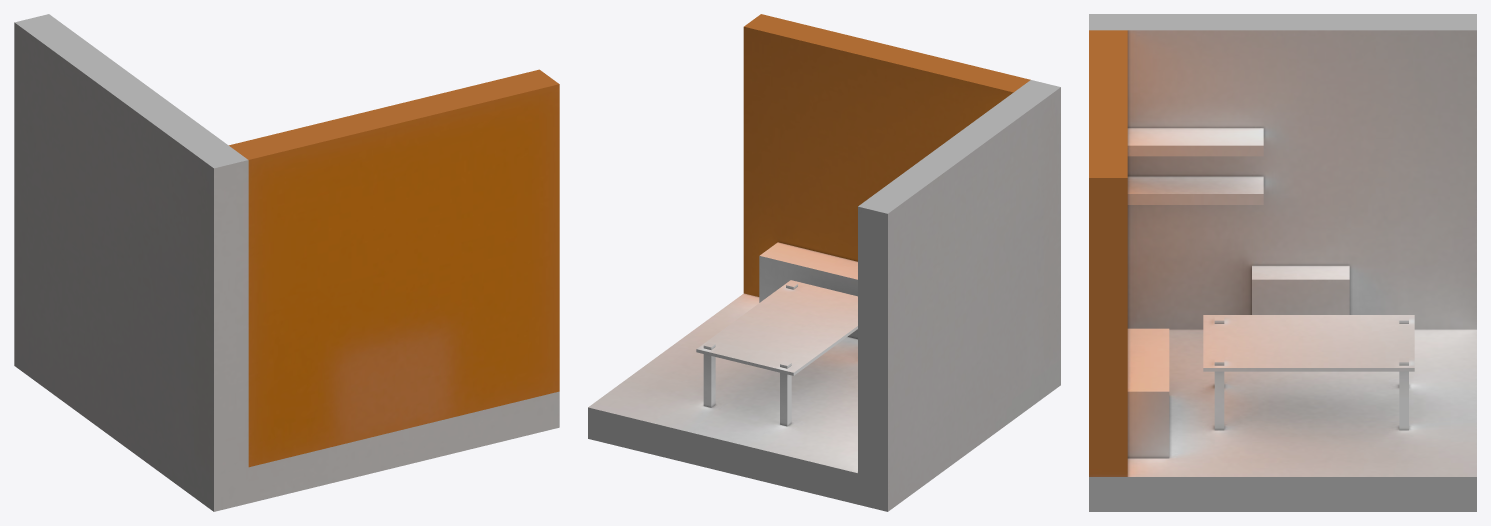
Rendered from room.obj.
3 views of the same model, side by side, from view 1: azimuth 30°, elevation 25°; view 2: azimuth 150°, elevation 25°; view 3: azimuth 270°, elevation 25° (orthographic). The views are drawn at different scales.
Parts seen in each view (by area): view 1: polySurface27; view 2: polySurface27; view 3: polySurface27.
Boxes of the visible parts, box(x1,y1,x2,y2) form: polySurface27: box(14, 14, 559, 511); polySurface27: box(588, 14, 1060, 511); polySurface27: box(1089, 14, 1476, 511).
Bounding box in the file's own units: 10 × 9.5 × 10.
1 material, 1 textured.
